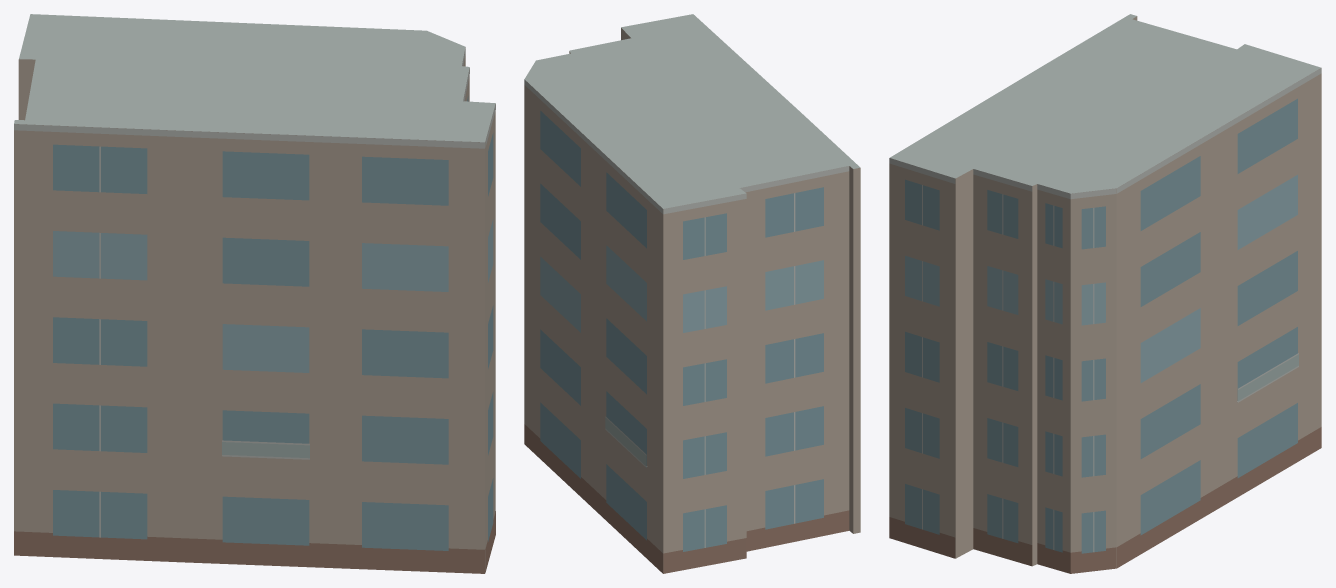
File: survey-upis-32866778.glb
3 views of the same model, side by side, from view 1: azimuth 30°, elevation 25°; view 2: azimuth 150°, elevation 25°; view 3: azimuth 270°, elevation 25° (orthographic). The views are drawn at different scales.
Visible parts, largest first — view 1: survey-upis-32866778.tmp; view 2: survey-upis-32866778.tmp; view 3: survey-upis-32866778.tmp.
Boxes of the visible parts, <box> form: survey-upis-32866778.tmp: <box>14,14,495,573</box>; survey-upis-32866778.tmp: <box>524,14,860,573</box>; survey-upis-32866778.tmp: <box>889,14,1321,573</box>.
Bounding box in the file's own units: 16.67 × 16.45 × 16.95.
